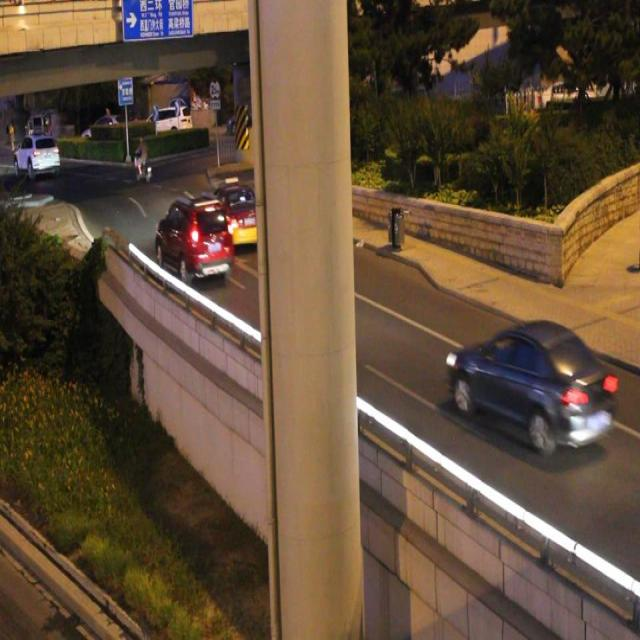car: (446, 316, 608, 453), (154, 193, 234, 280), (200, 175, 263, 248)
